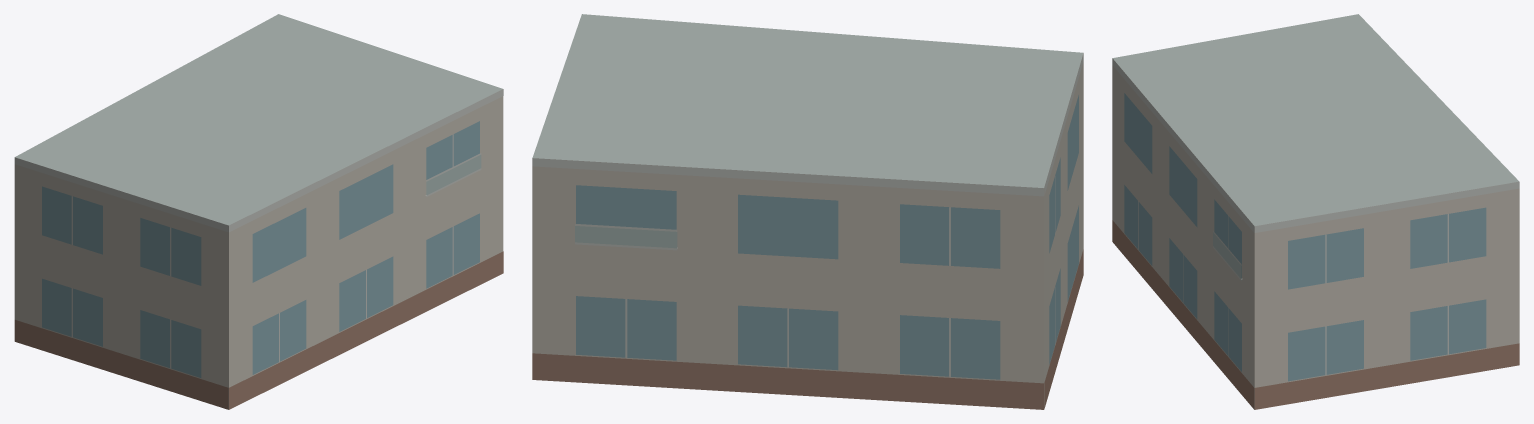
Rendered from survey-upis-32854528.glb.
3 renders of one model, left to right at view 1: azimuth 30°, elevation 25°; view 2: azimuth 150°, elevation 25°; view 3: azimuth 270°, elevation 25°, orthographic. The views are drawn at different scales.
Visible parts, largest first — view 1: survey-upis-32854528.tmp; view 2: survey-upis-32854528.tmp; view 3: survey-upis-32854528.tmp.
Part boxes in pixels (box(x1,y1,x2,y2)): survey-upis-32854528.tmp: box(14, 14, 503, 409); survey-upis-32854528.tmp: box(532, 14, 1083, 409); survey-upis-32854528.tmp: box(1112, 14, 1519, 409).
Bounding box in the file's own units: 16.12 × 6.5 × 13.07.
